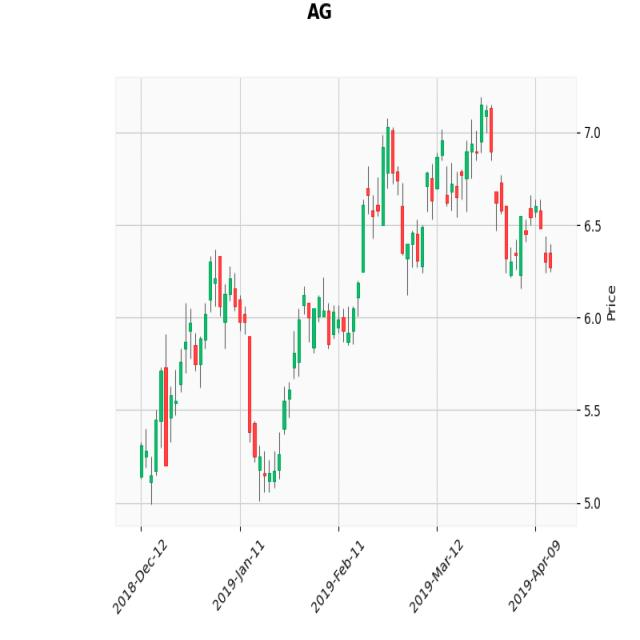Double-Top: (346, 89, 518, 325)
